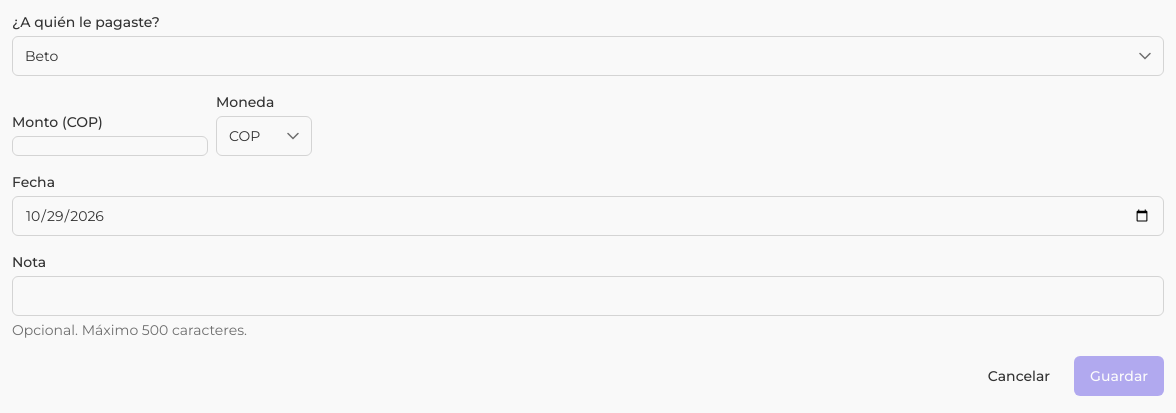
Test: SettlementForm recipient select (T103) › keeps showing a name, not an id, after a different recipient is picked
Click the dropdown named "¿A quién le pagaste?" at (42, 56), box [12,36,1164,76]
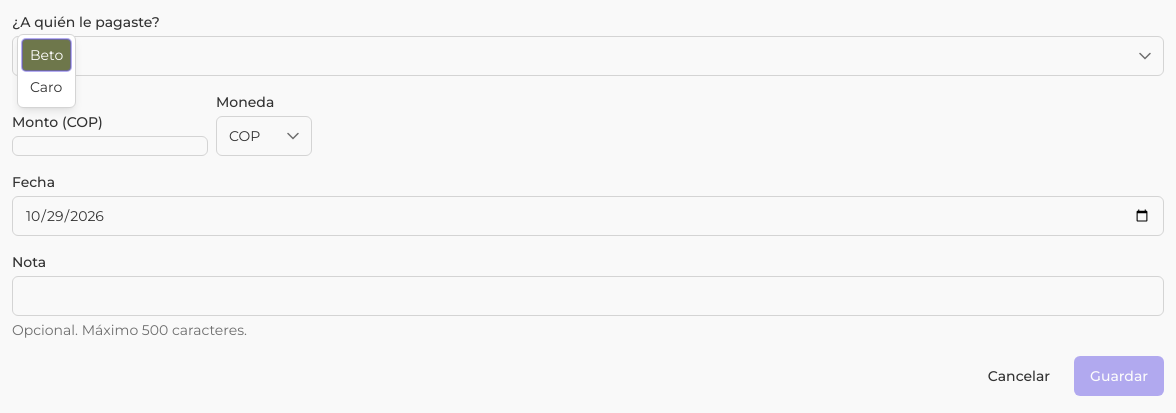
Click the option "Caro" at (46, 87), box [30,78,62,96]
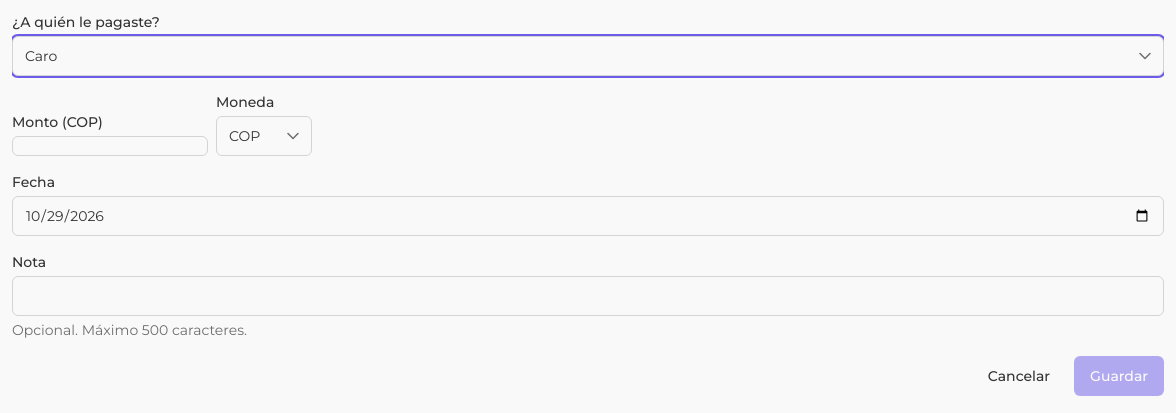
Now the dropdown named "¿A quién le pagaste?" reads "Caro", box [12,36,1164,76]
